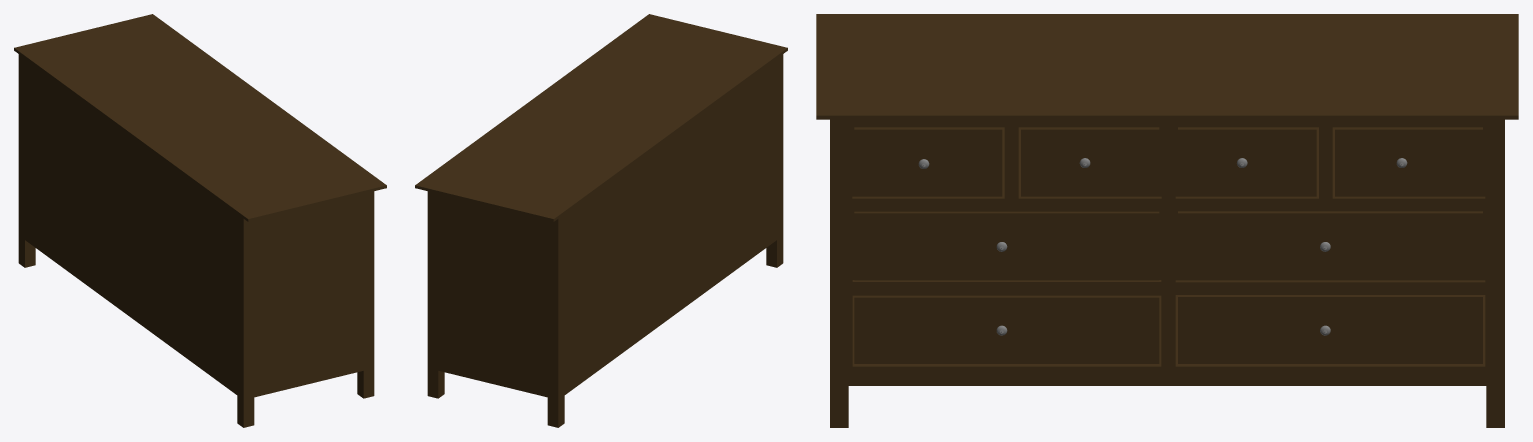
3 renders of one model, left to right at view 1: azimuth 30°, elevation 25°; view 2: azimuth 150°, elevation 25°; view 3: azimuth 270°, elevation 25°, orthographic. The views are drawn at different scales.
Visible parts, largest first — view 1: Object_56; view 2: Object_56; view 3: Object_56, Object_9.
Boxes of the visible parts, left/top/right/bottom form: Object_56: left=14, top=14, right=386, bottom=427; Object_56: left=415, top=14, right=787, bottom=427; Object_56: left=816, top=14, right=1518, bottom=427; Object_9: left=918, top=158, right=1407, bottom=335.
Size of the model in its own units: 26 by 38 by 76.
